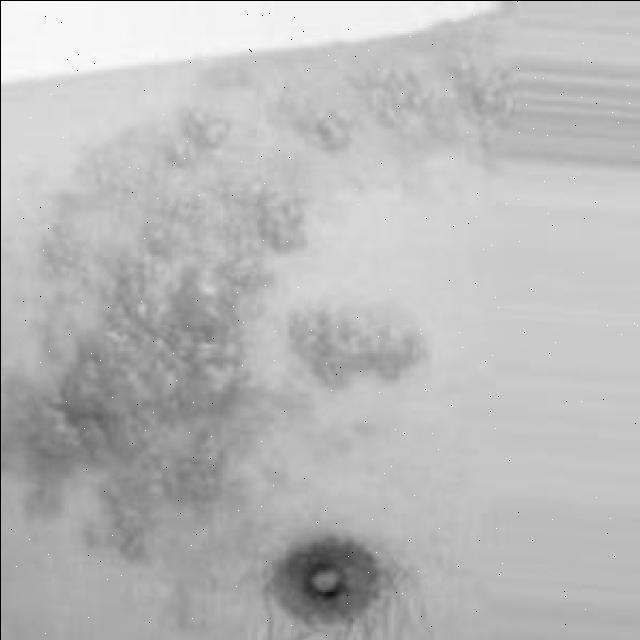Shingles: (0, 40, 457, 559)
